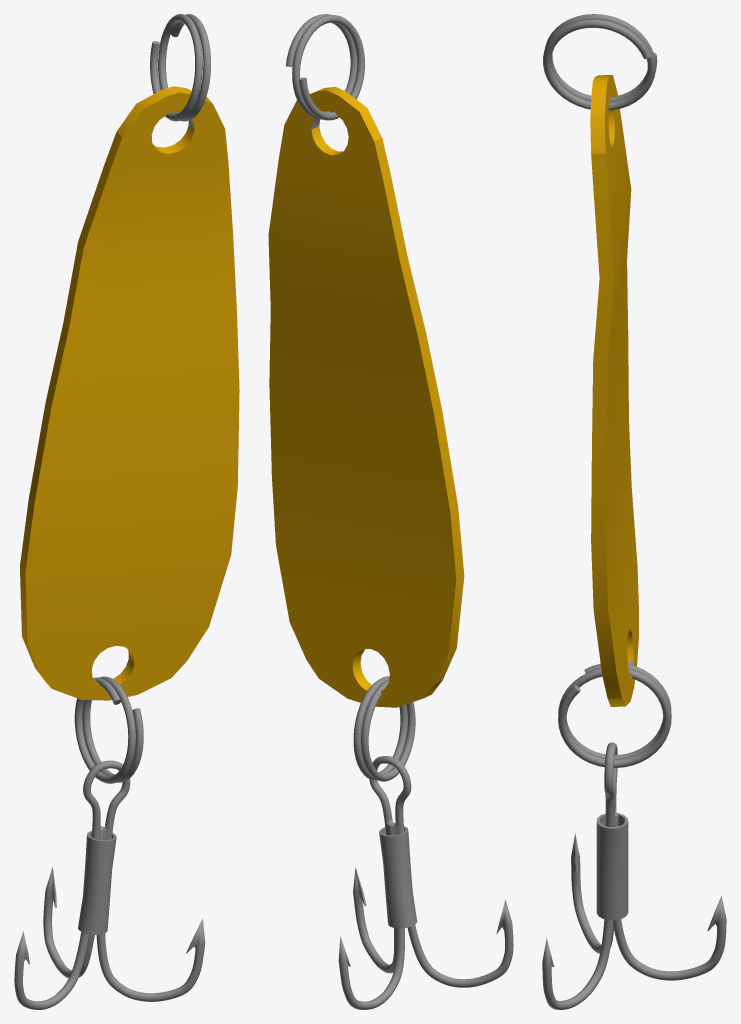
Rendered from Spinner_Lure.fbx.
3 renders of one model, left to right at view 1: azimuth 30°, elevation 25°; view 2: azimuth 150°, elevation 25°; view 3: azimuth 270°, elevation 25°, orthographic. The views are drawn at different scales.
Visible parts, largest first — view 1: Box002_lure_0.001, Box002_lure_0; view 2: Box002_lure_0.001, Box002_lure_0; view 3: Box002_lure_0.001, Box002_lure_0.
Boxes of the visible parts, x1,y1,x2,y2 form: Box002_lure_0.001: (20, 86, 239, 700); Box002_lure_0: (14, 14, 210, 1009); Box002_lure_0.001: (268, 86, 464, 707); Box002_lure_0: (286, 14, 513, 1009); Box002_lure_0.001: (590, 75, 638, 706); Box002_lure_0: (542, 14, 726, 1009).
Bounding box in the file's own units: 33.31 × 131 × 21.59.
